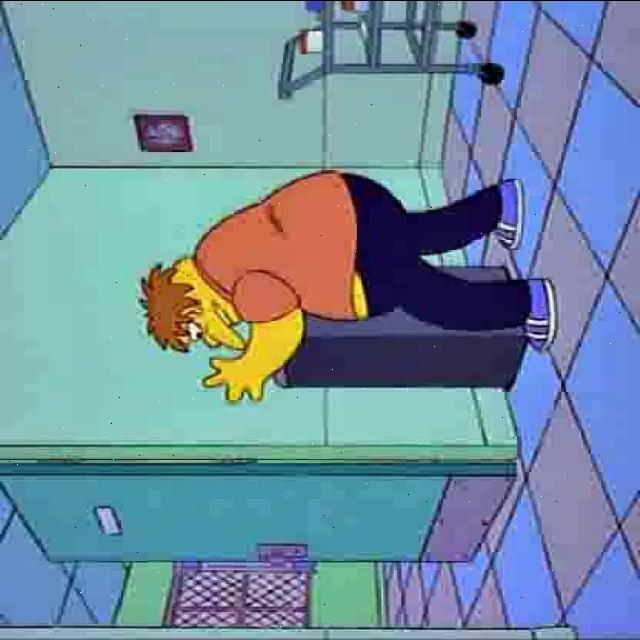Barney Gumble: (136, 252, 252, 356)
